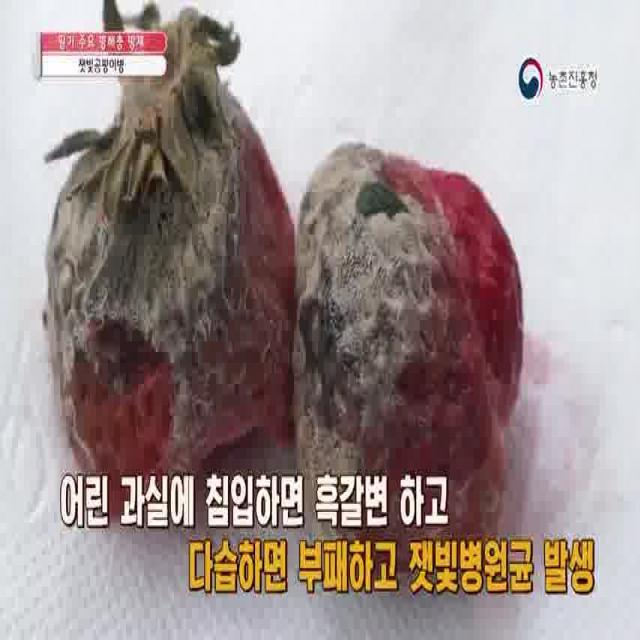Moho gris: (32, 0, 324, 527), (293, 140, 527, 578)
